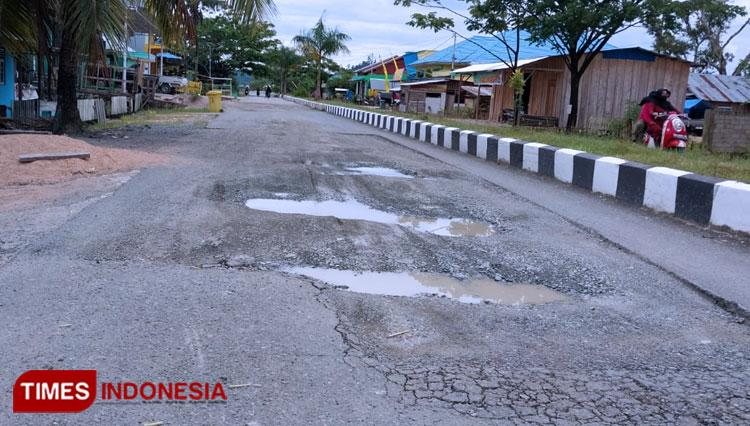Pothole: (223, 250, 623, 329), (237, 188, 521, 255), (306, 125, 464, 179)
